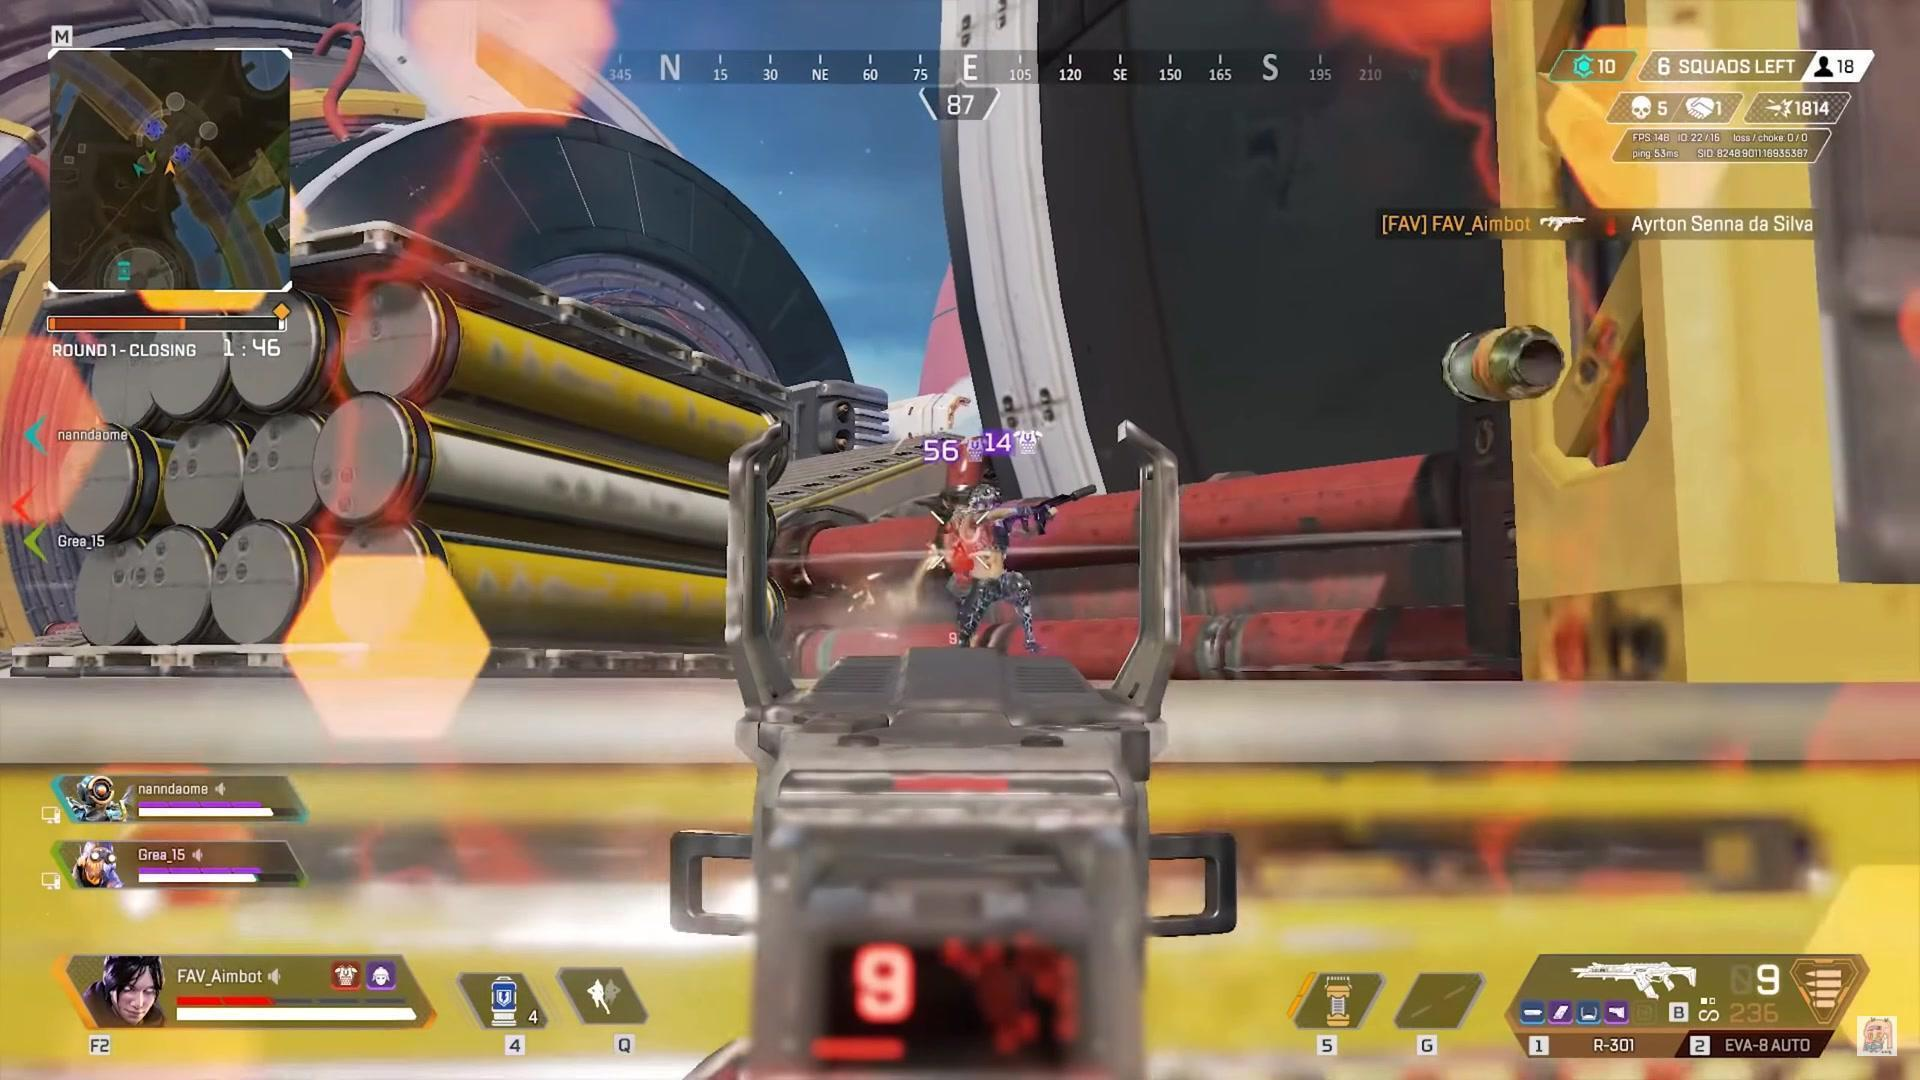avatar: (950, 482, 1041, 645)
